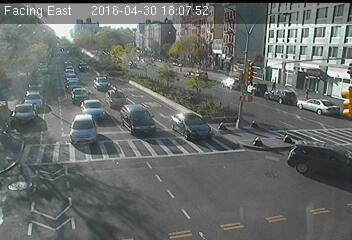neg: (165, 71, 209, 131), (28, 105, 53, 139), (226, 97, 251, 131), (105, 85, 124, 110)
pos: (302, 85, 313, 99), (270, 80, 279, 92)
